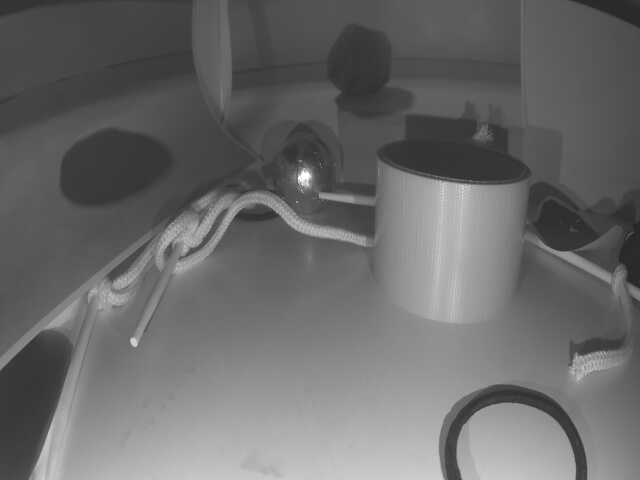Live: (273, 135, 337, 212)
